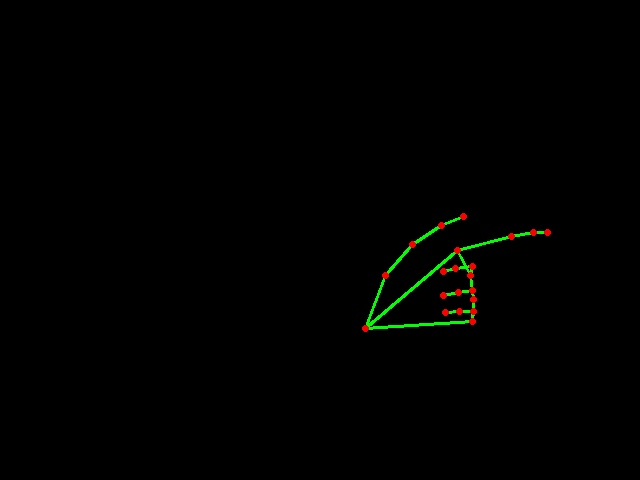left: (358, 189, 563, 352)
